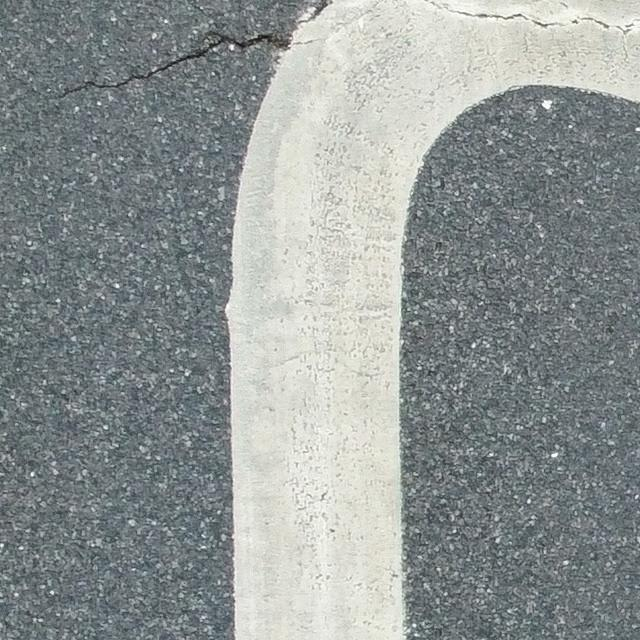TransverseCrack: (48, 1, 336, 98), (426, 1, 640, 35)
